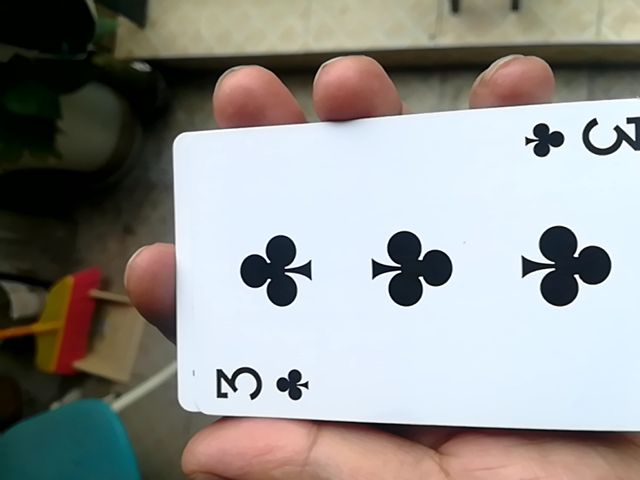mh 3: (159, 107, 633, 444)
